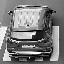mobil: (5, 3, 54, 56)
